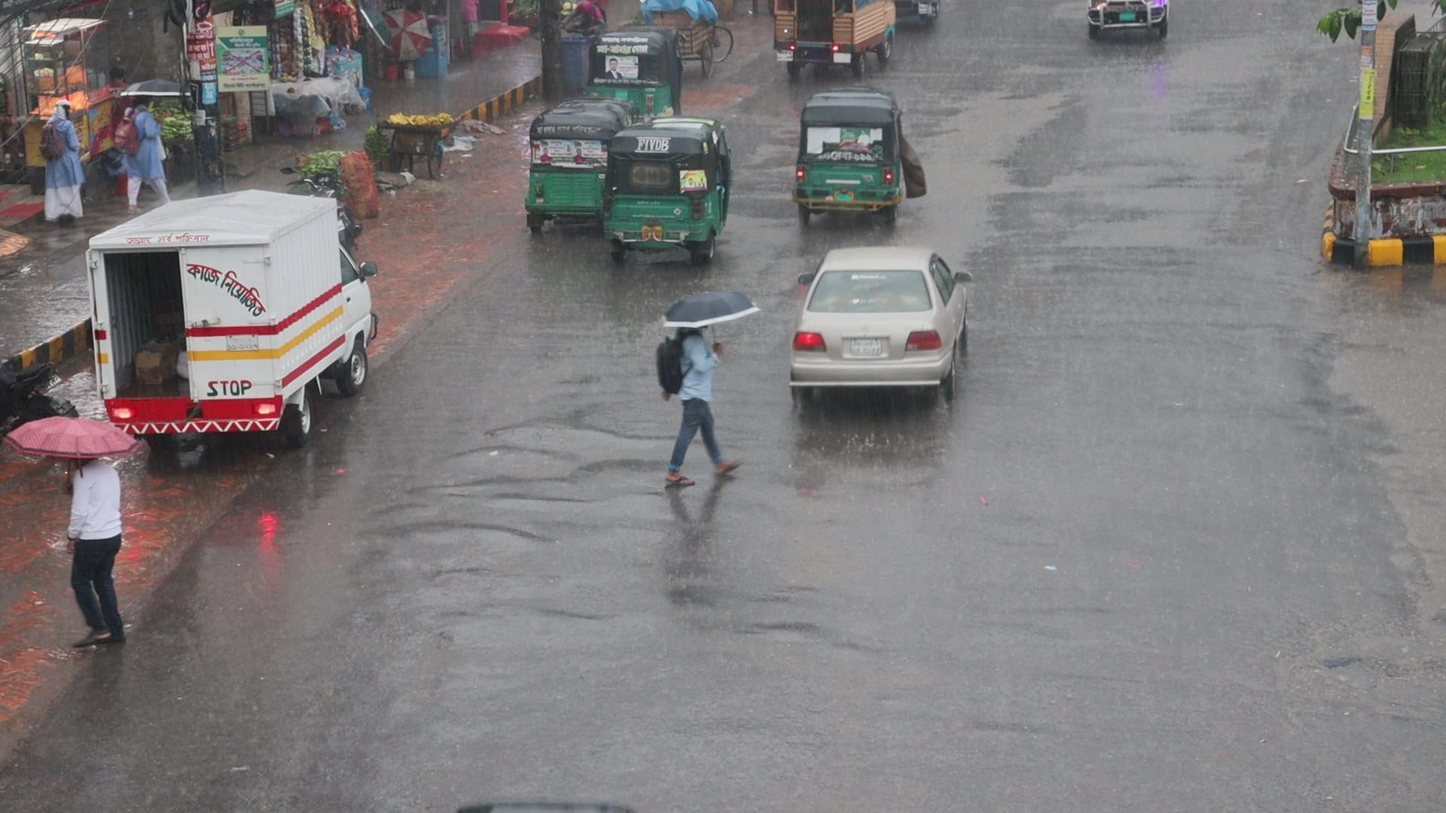Car: (787, 247, 977, 422)
